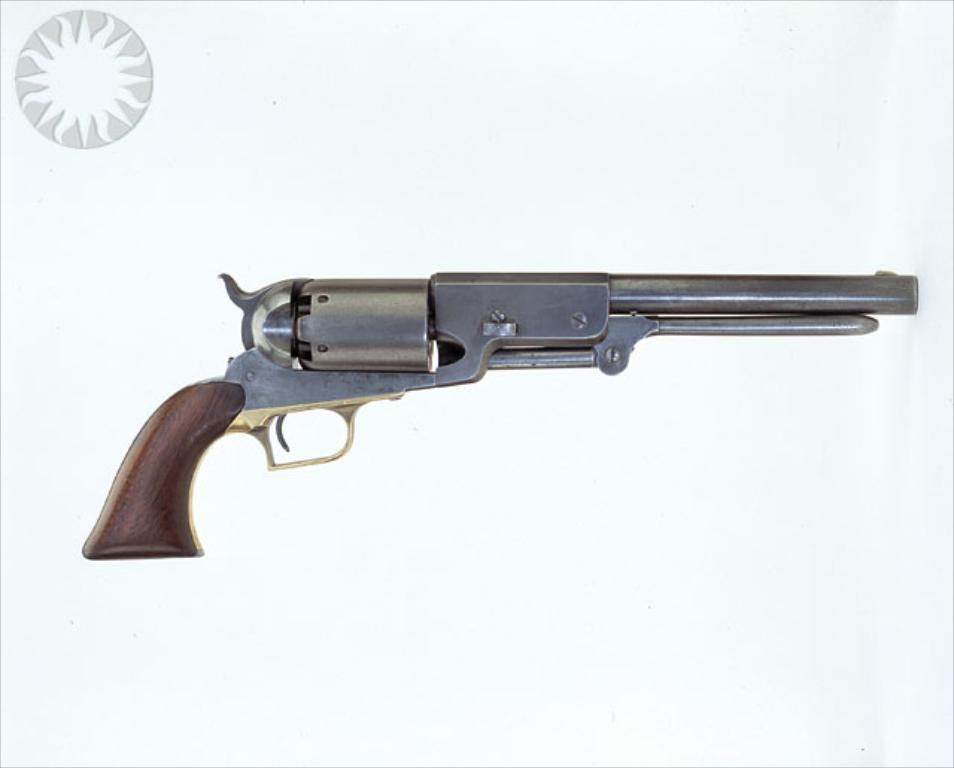Handgun: (85, 270, 923, 559)
